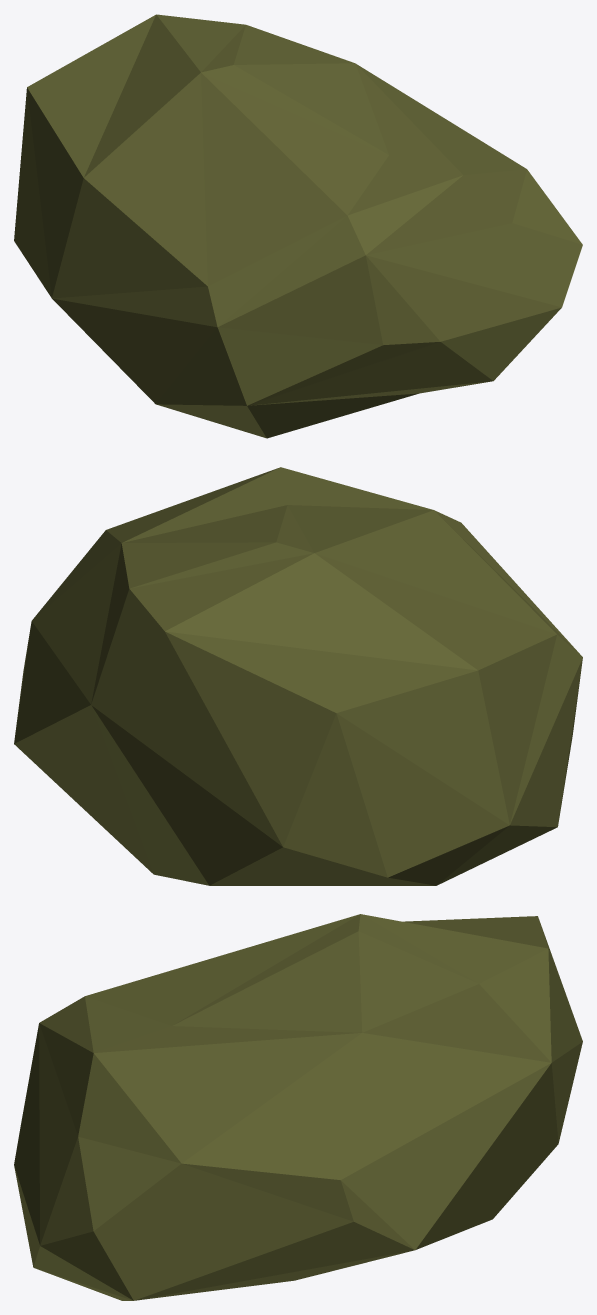
The model's file is Mosh 10.FBX.
The picture shows the model from 3 angles, top to bottom: view 1: azimuth 30°, elevation 25°; view 2: azimuth 150°, elevation 25°; view 3: azimuth 270°, elevation 25°; orthographic projection. The views are drawn at different scales.
Parts seen in each view (by area): view 1: cube; view 2: cube; view 3: cube.
Boxes of the visible parts, x1=… form: cube: x1=14, y1=14, x2=582, y2=438; cube: x1=14, y1=467, x2=582, y2=885; cube: x1=14, y1=914, x2=582, y2=1300.
Size of the model in its own units: 72.43 by 47.18 by 75.31.
